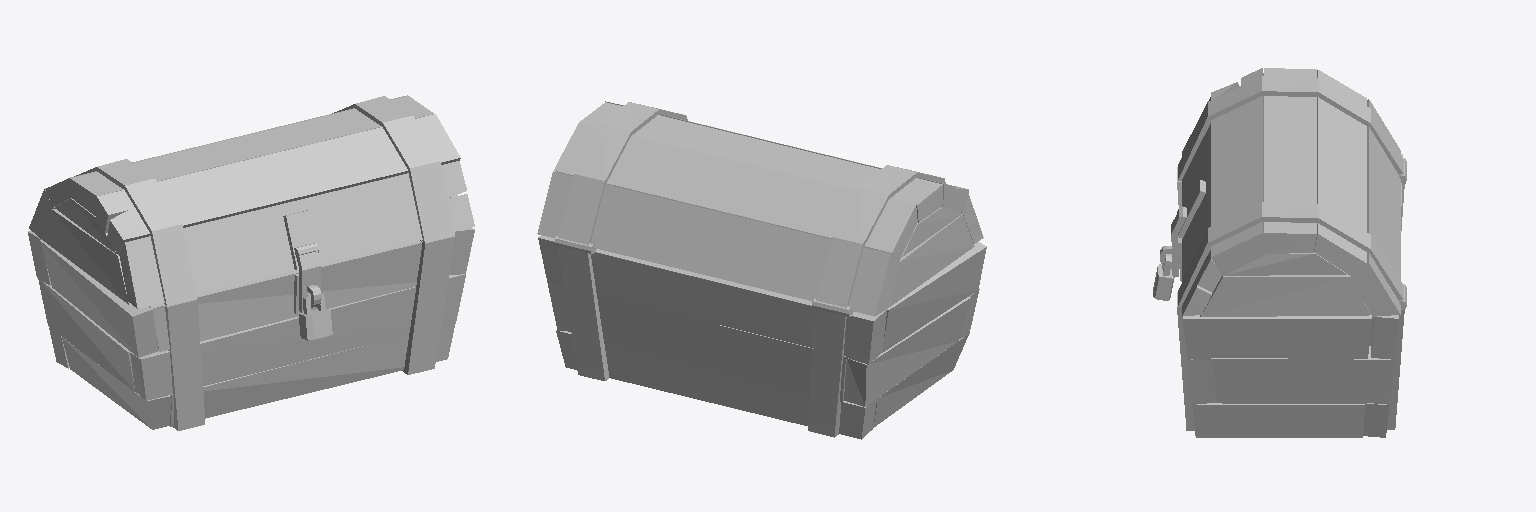
Rendered from chest.obj.
The picture shows the model from 3 angles: view 1: azimuth 30°, elevation 25°; view 2: azimuth 150°, elevation 25°; view 3: azimuth 270°, elevation 25°; orthographic projection.
Parts seen in each view (by area): view 1: chest.026; view 2: chest.026; view 3: chest.026.
Part boxes in pixels (x1,y1,x2,y2): chest.026: (28, 95, 474, 430); chest.026: (537, 101, 986, 439); chest.026: (1153, 68, 1406, 437).
Bounding box in the file's own units: 13.13 × 8.15 × 8.44.